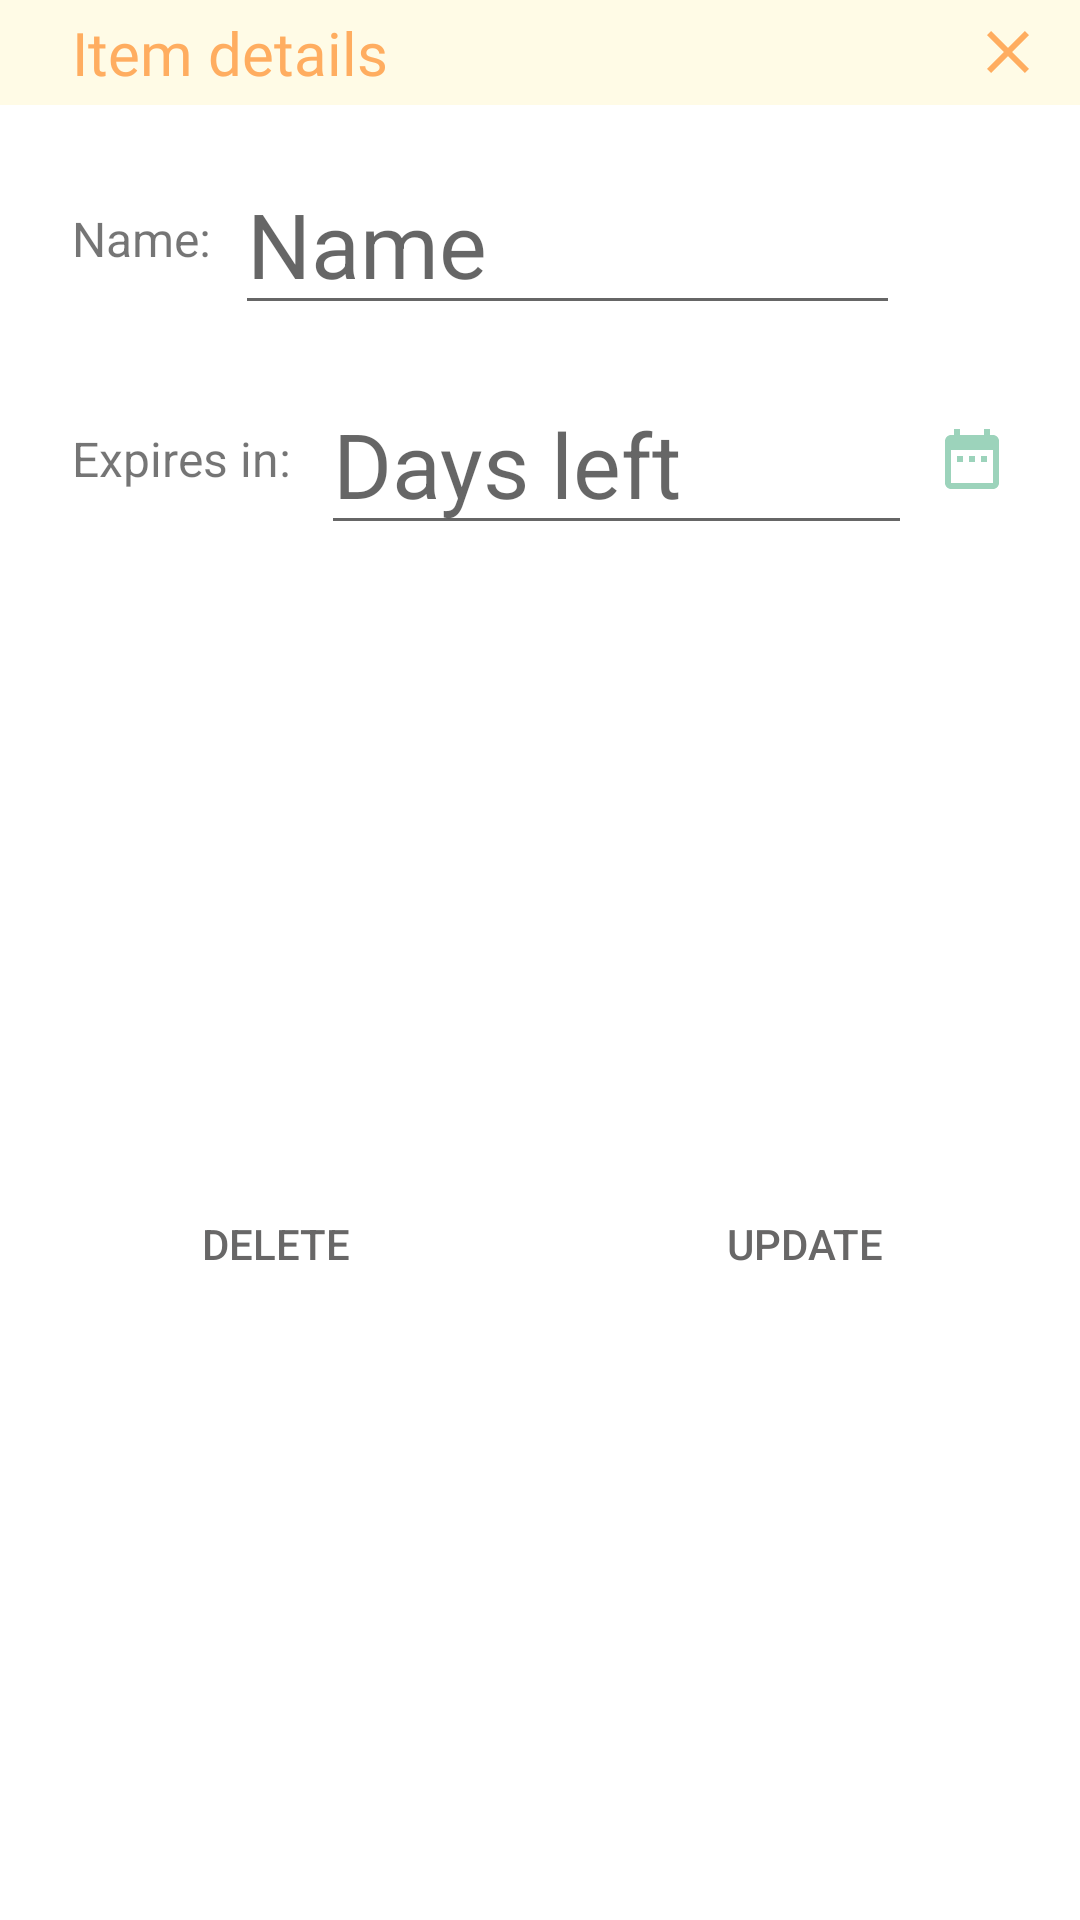

Icon click points for this 1080px x 1920px phone screenshot, format [x,y]:
close: [1008,52]
date range: [972,459]
